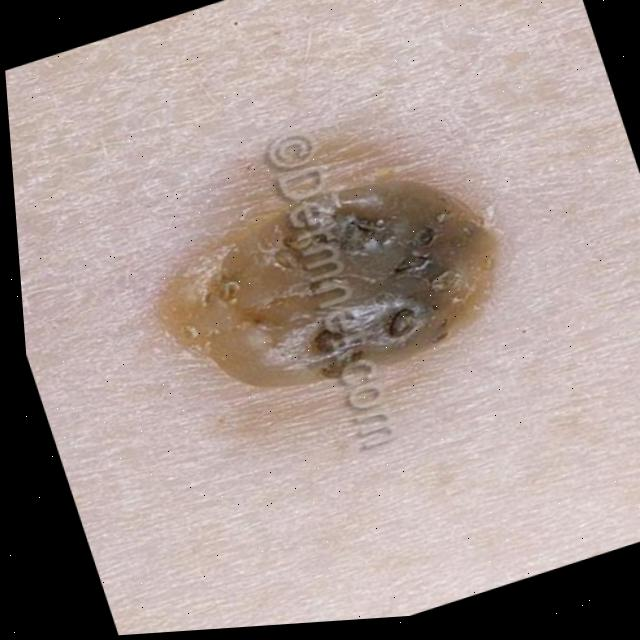Eczema: (190, 166, 492, 382)
